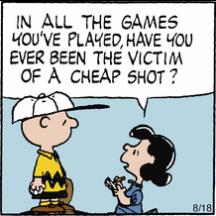charlie: (20, 90, 80, 214)
